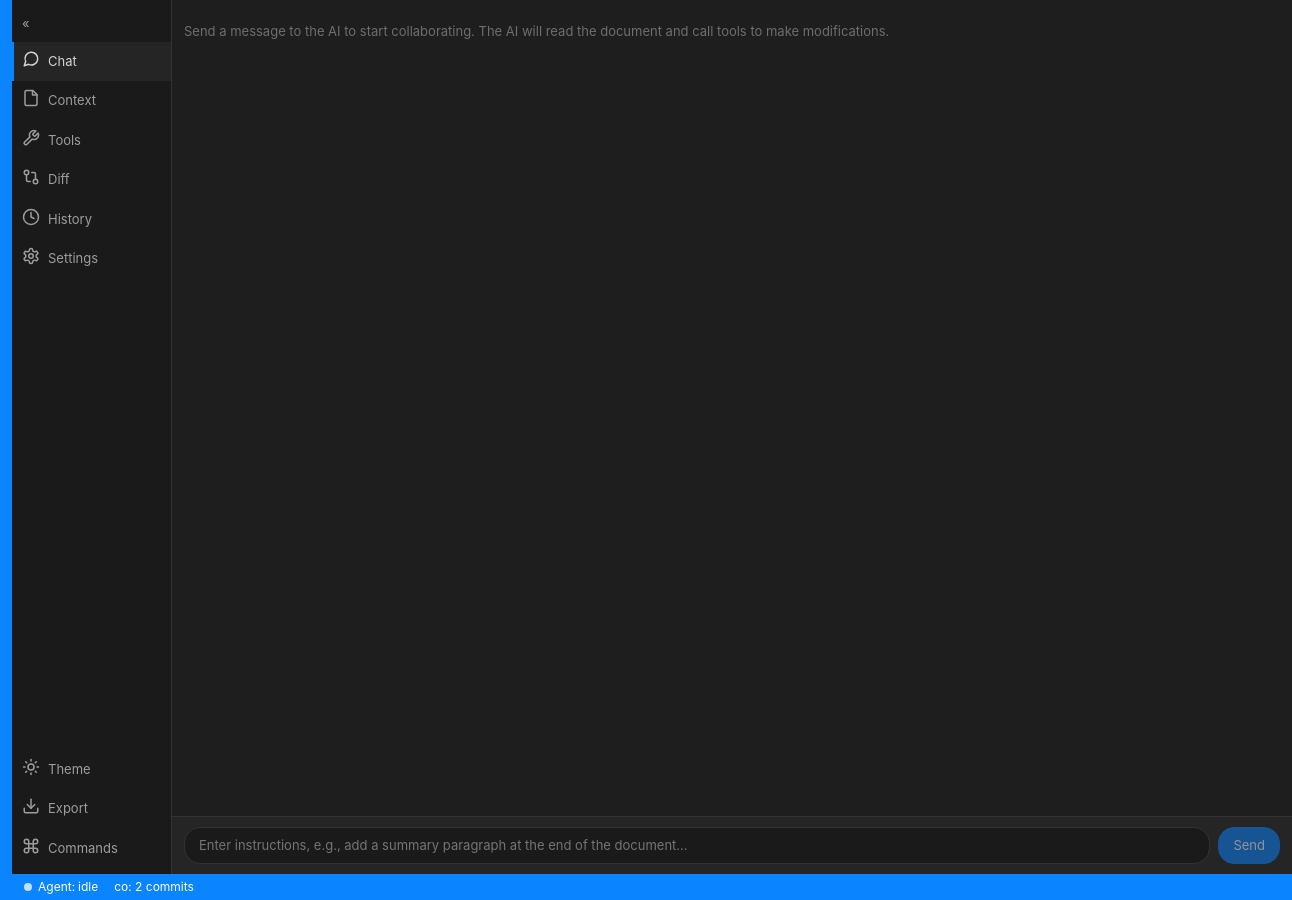
it: Agent Deck › streams assistant tokens into the chat while running
Type "Write a summary" into the field named "Message Input". click: coordinates (697, 845)
box: [184, 826, 1210, 864]
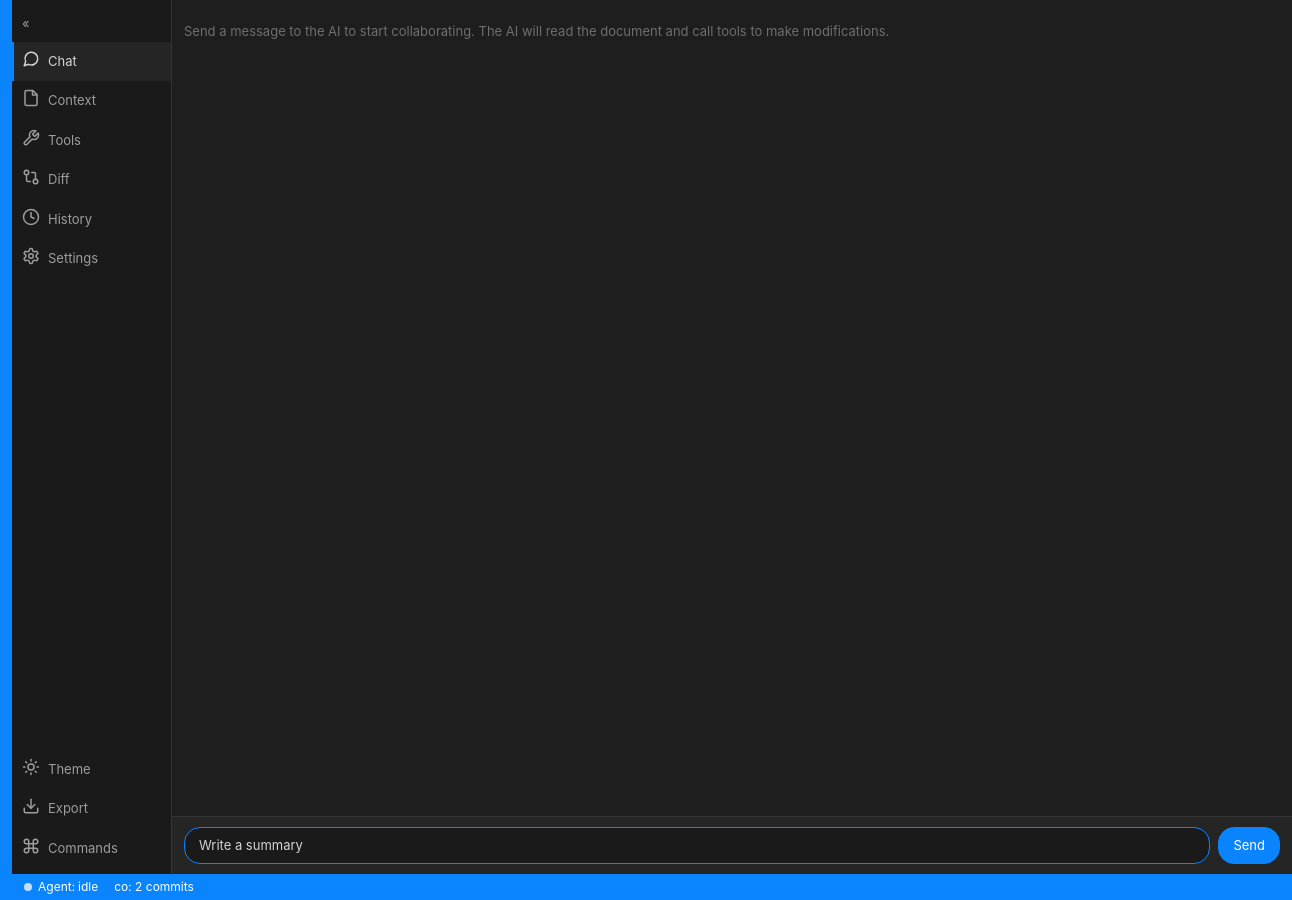
Click the button "Send". click: coordinates (1249, 845)
box: [1218, 826, 1280, 864]
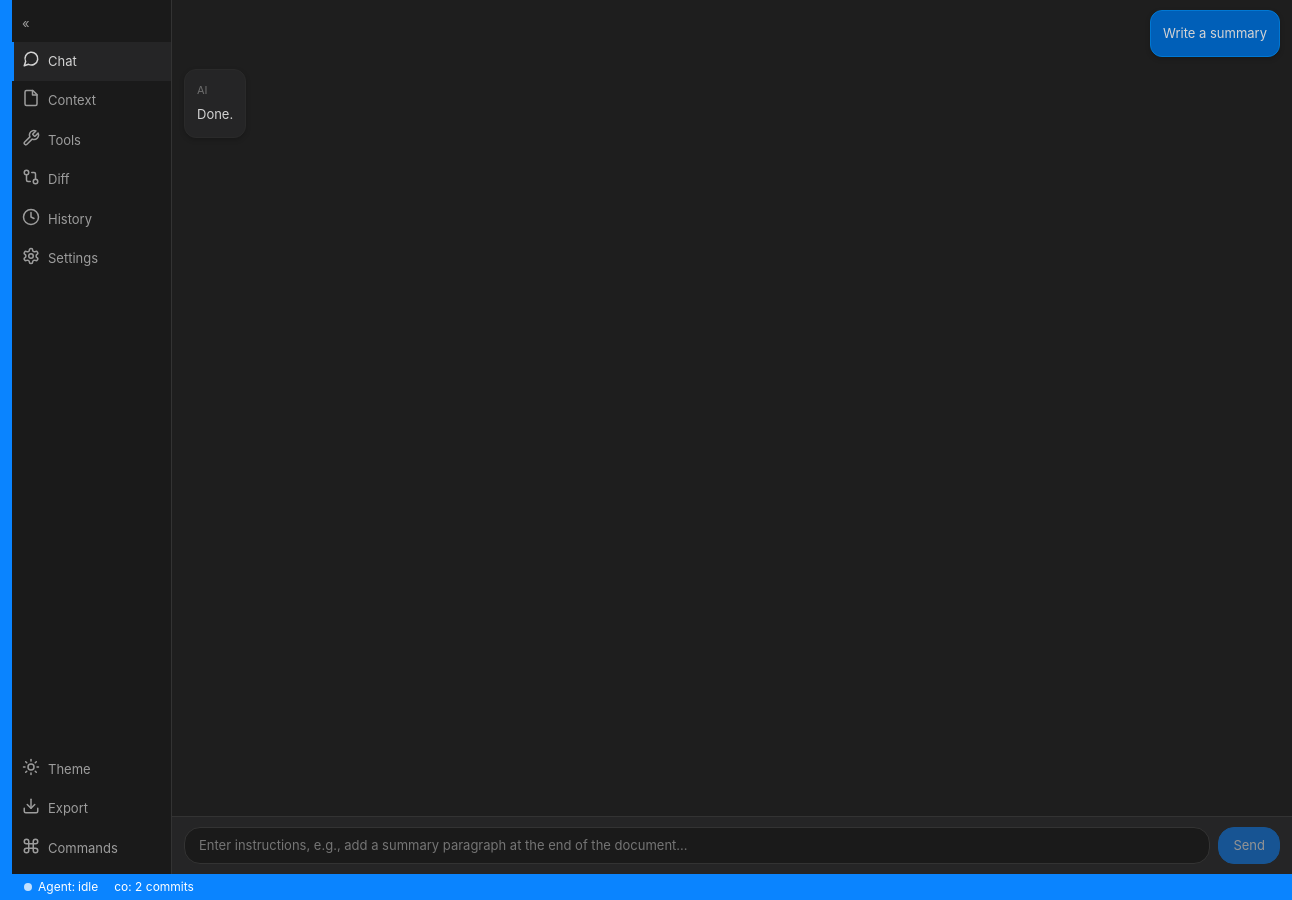
Expected: the text "Done." is shown, [197, 104, 233, 125]
